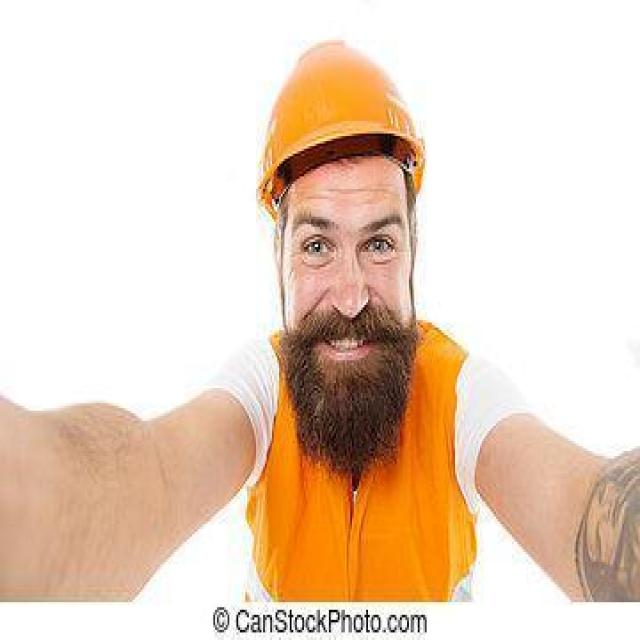helmet: (256, 43, 425, 217)
